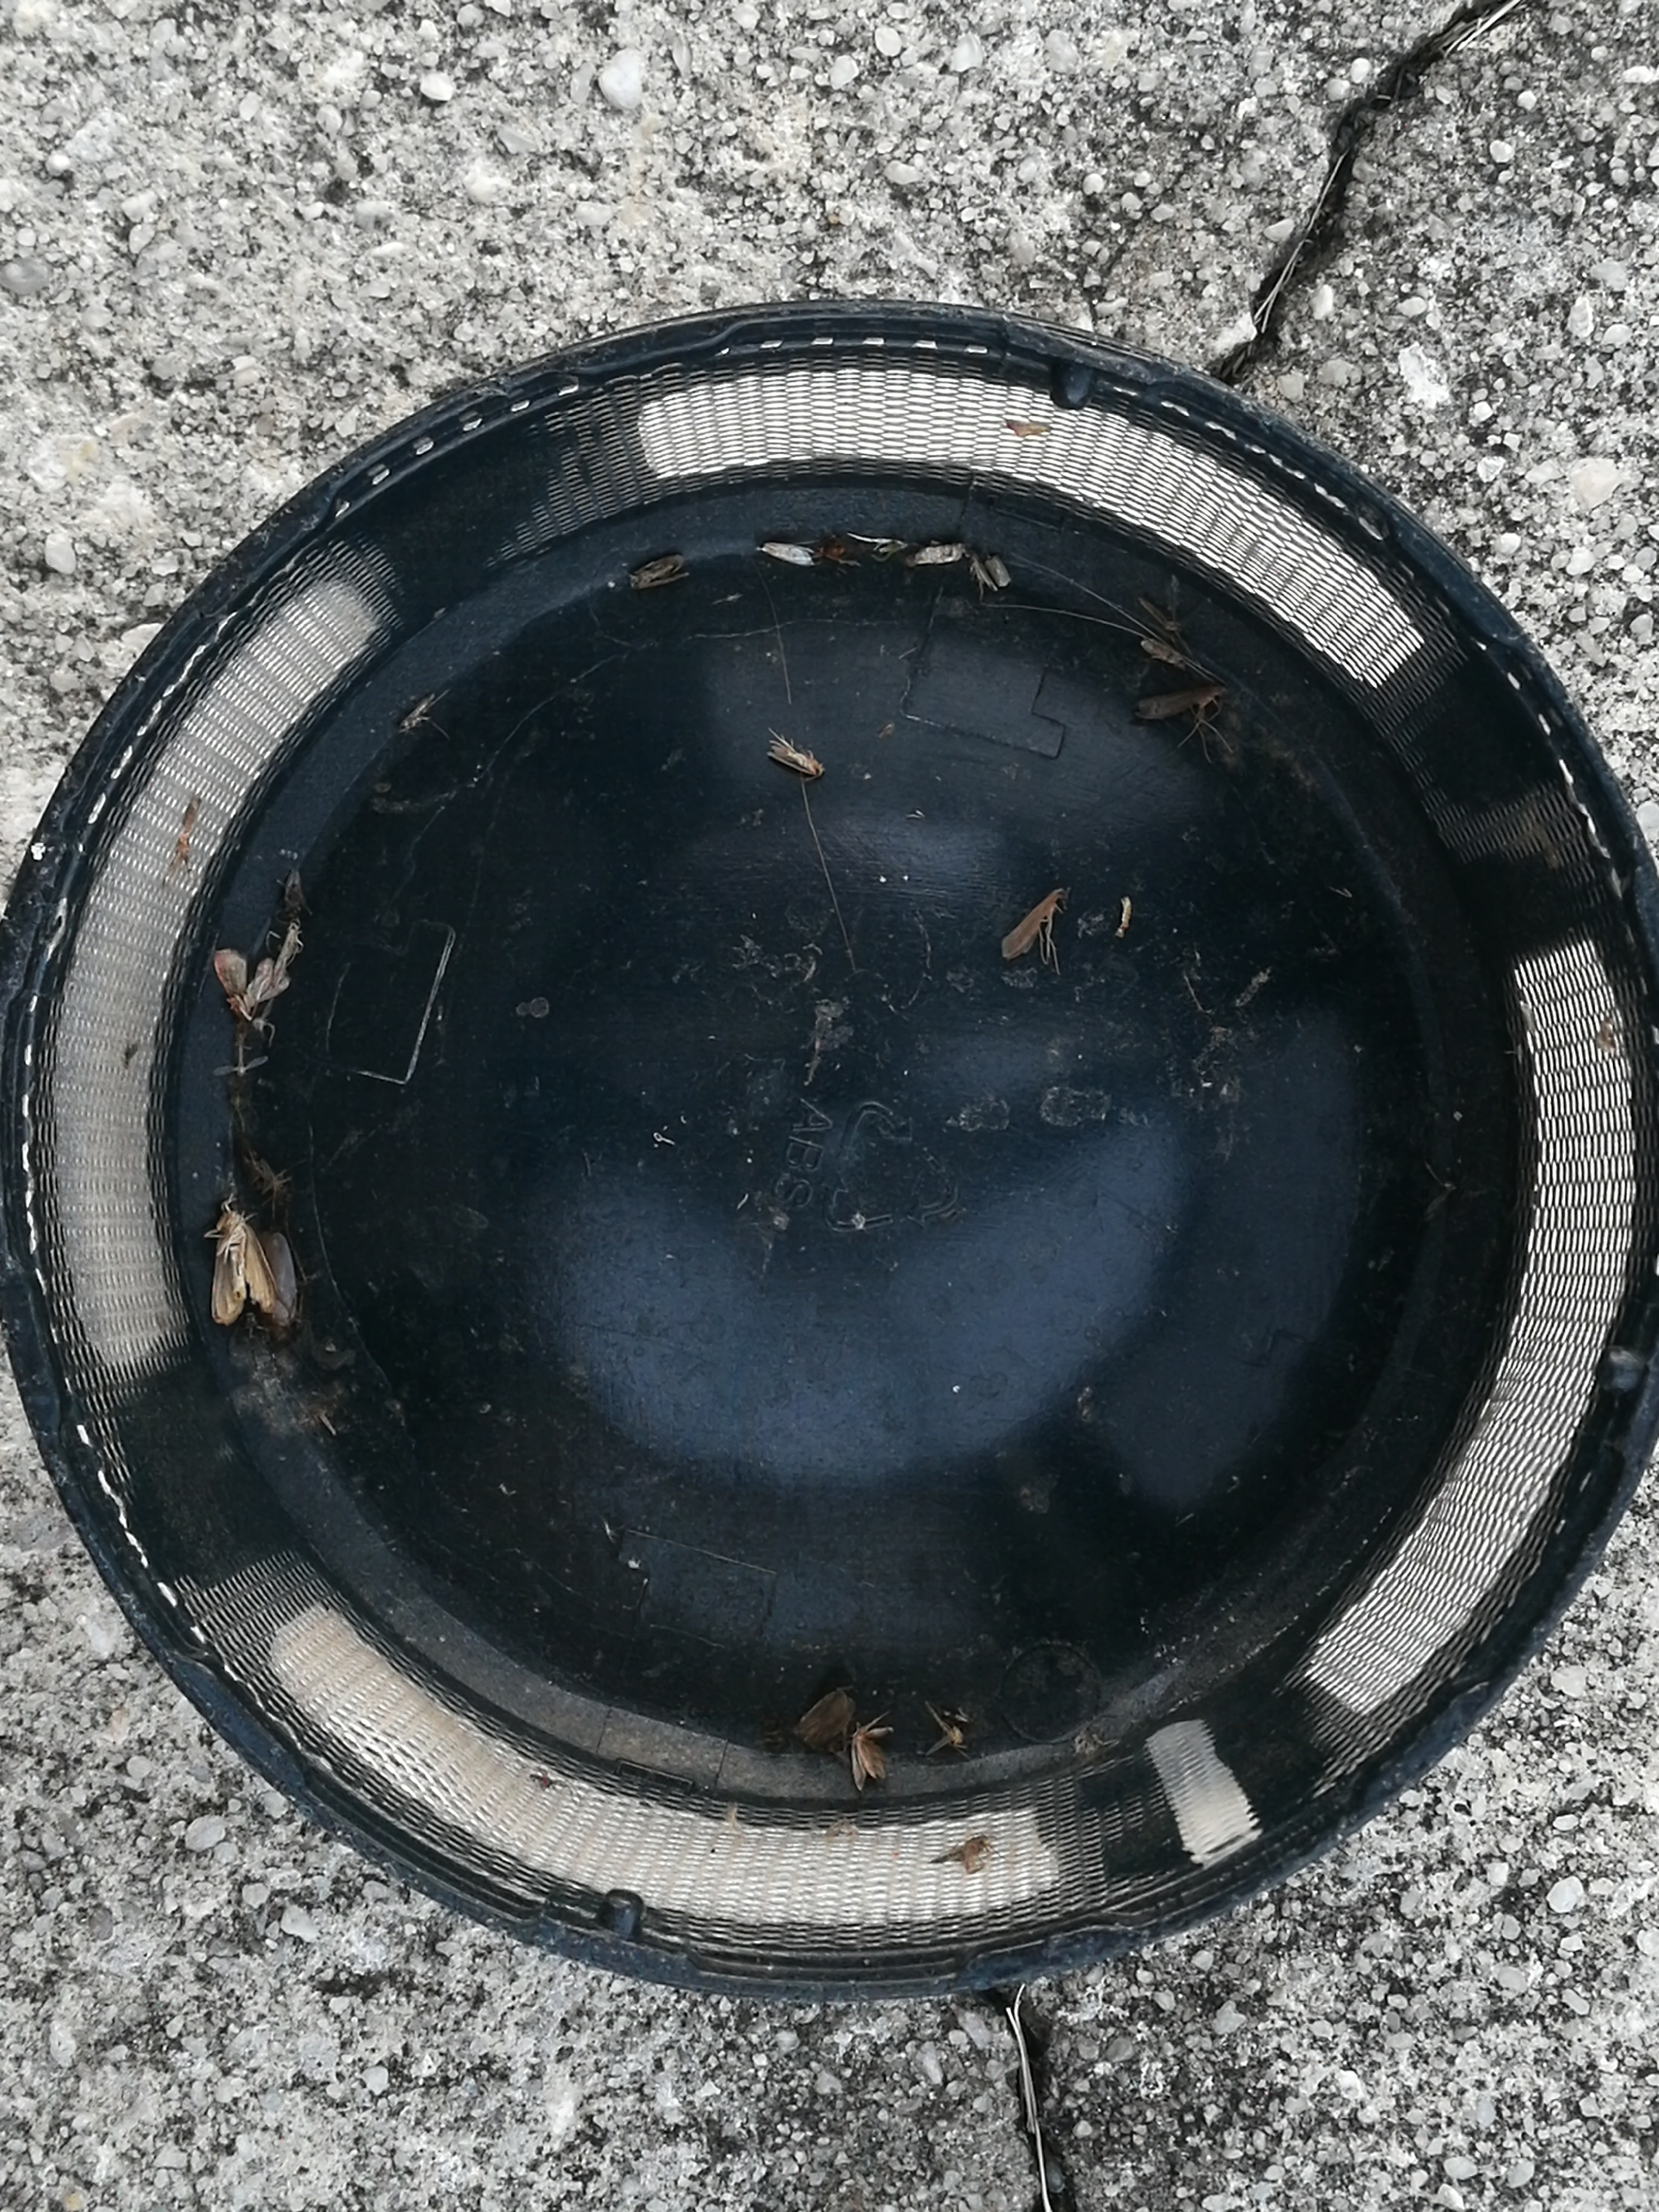mosquito: (1002, 888, 1066, 961), (1138, 685, 1223, 719), (629, 554, 683, 589), (770, 740, 819, 773), (756, 542, 812, 566), (1141, 641, 1187, 667), (399, 698, 430, 730), (974, 554, 995, 592)
moth: (211, 1209, 270, 1325), (213, 953, 289, 1014)
